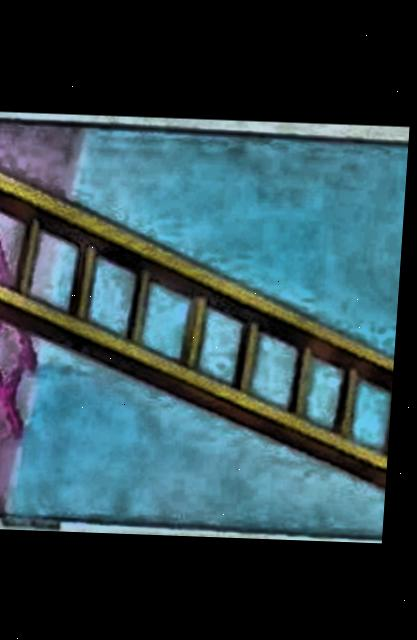La Escalera: (0, 125, 410, 537)
